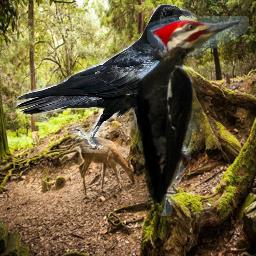Crow: (13, 4, 198, 153)
Woodpecker: (122, 16, 249, 216)
